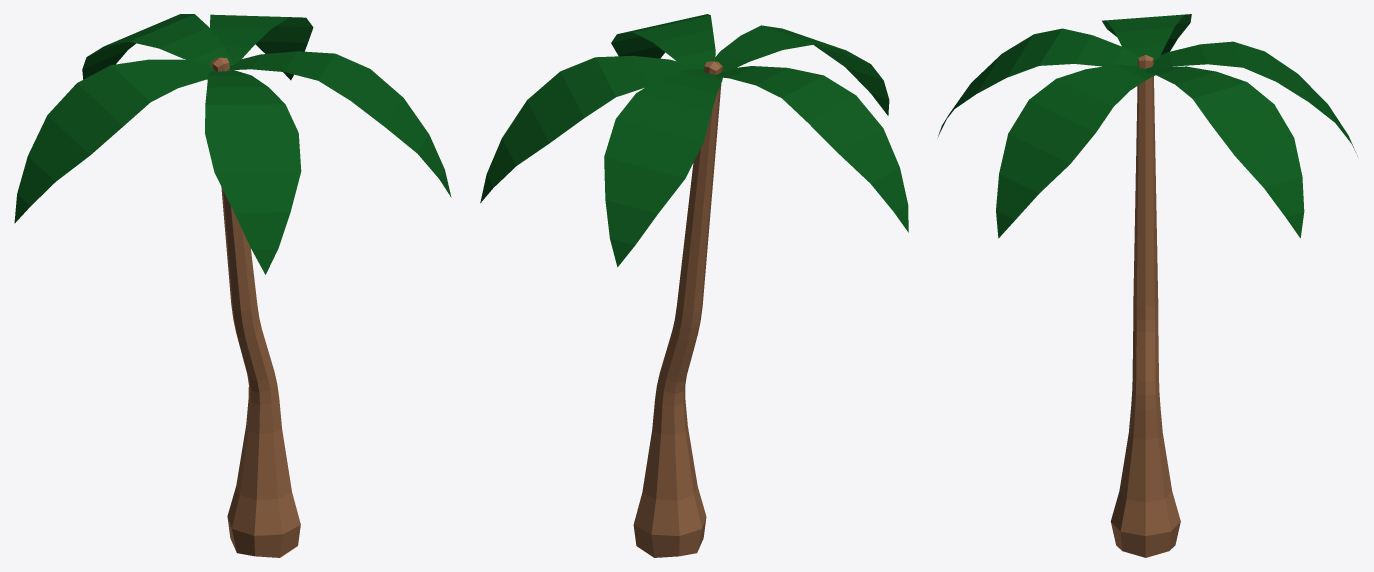
The model's file is tree-summer-complete-47-010.glb.
3 renders of one model, left to right at view 1: azimuth 30°, elevation 25°; view 2: azimuth 150°, elevation 25°; view 3: azimuth 270°, elevation 25°, orthographic. The views are drawn at different scales.
Visible parts, largest first — view 1: Tree 47_69; view 2: Tree 47_69; view 3: Tree 47_69.
Part boxes in pixels (x1,y1,x2,y2): Tree 47_69: [14, 14, 451, 557]; Tree 47_69: [480, 14, 908, 557]; Tree 47_69: [938, 14, 1357, 557].
Size of the model in its own units: 1.37 by 1.86 by 1.49.
